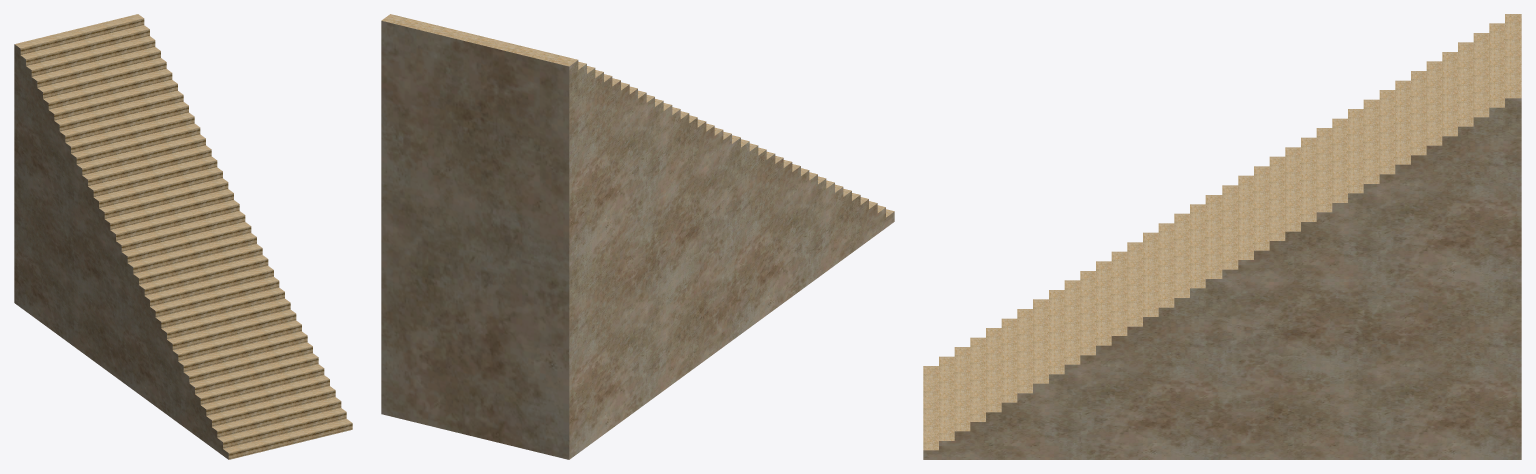
The model's file is thm_tato_imprv_stair_sml_s01_l0.fbx.
3 views of the same model, side by side, from view 1: azimuth 30°, elevation 25°; view 2: azimuth 150°, elevation 25°; view 3: azimuth 270°, elevation 25° (orthographic). The views are drawn at different scales.
Visible parts, largest first — view 1: mesh_node; view 2: mesh_node; view 3: mesh_node.
Part boxes in pixels (x1=…): mesh_node: x1=14, y1=14, x2=352, y2=459; mesh_node: x1=381, y1=14, x2=894, y2=459; mesh_node: x1=923, y1=14, x2=1521, y2=459.
Size of the model in its own units: 4 by 8 by 12.
